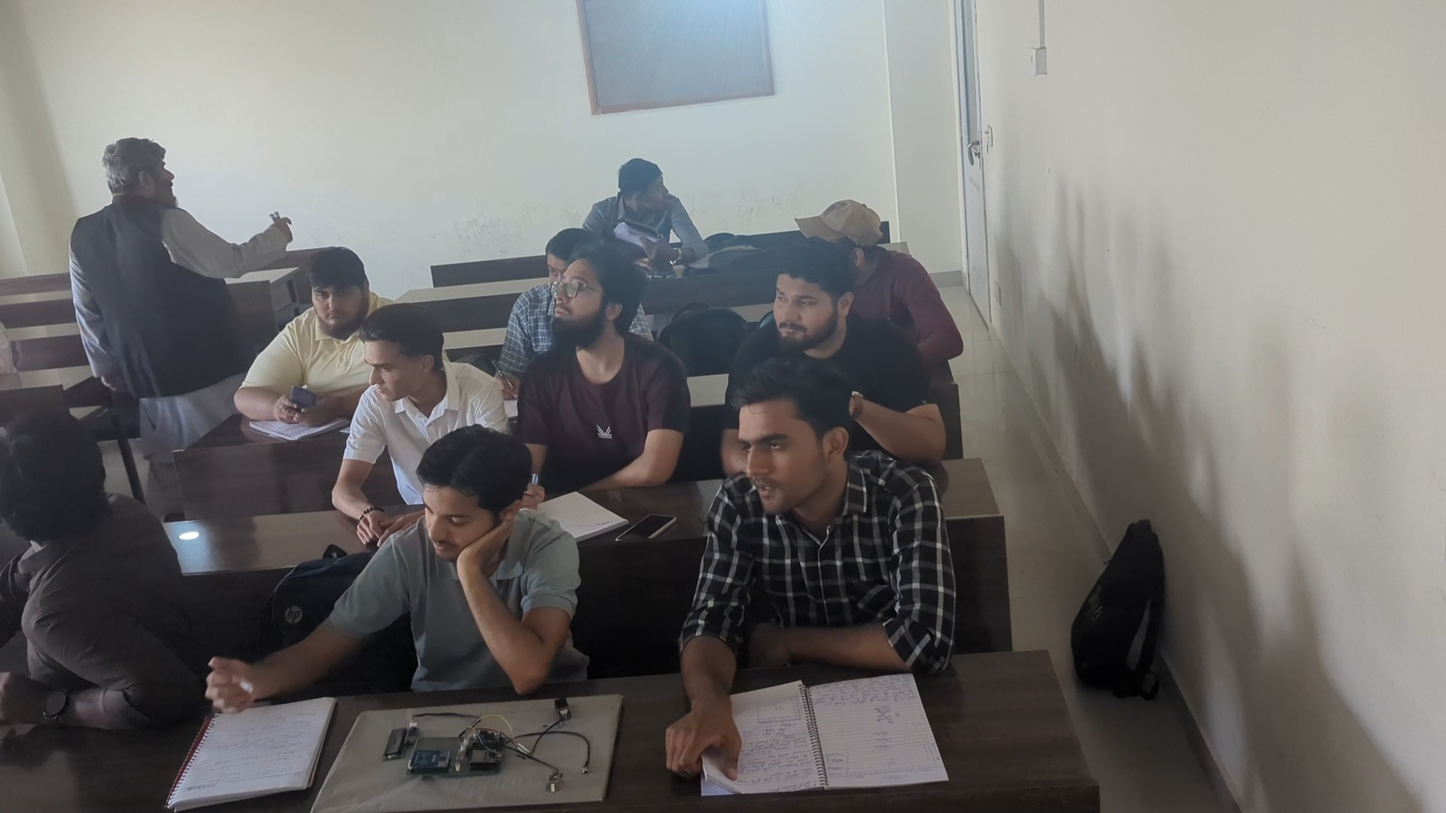look_forward: (505, 247, 682, 476), (811, 197, 967, 357), (340, 309, 449, 491), (732, 246, 902, 357), (488, 232, 558, 380)
read: (677, 360, 954, 664), (392, 425, 581, 685)
stand: (62, 132, 281, 426)
turn_head: (0, 397, 222, 727), (578, 158, 717, 269)
using_device: (239, 242, 373, 425)
